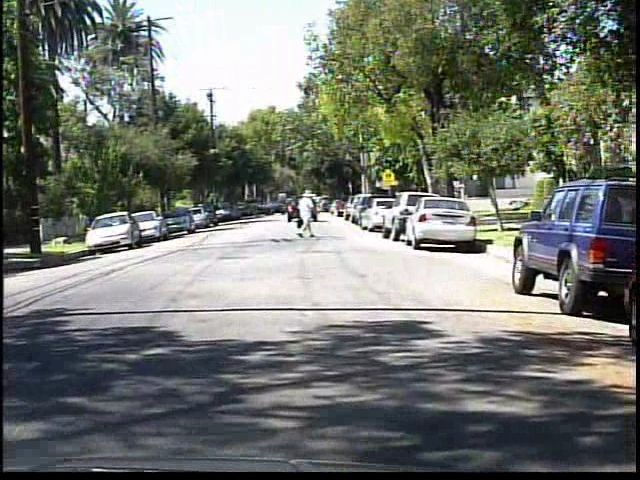person: (292, 188, 322, 241)
